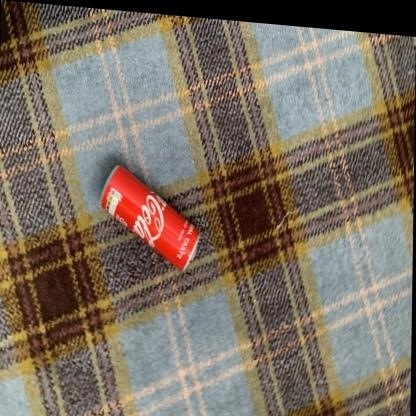trash: (101, 165, 198, 268)
